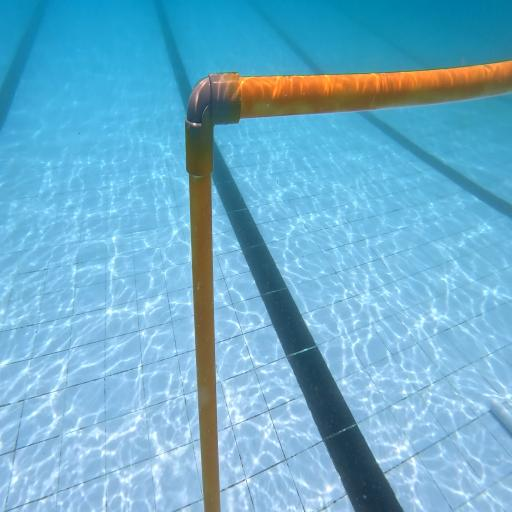gate: (184, 61, 512, 512)
